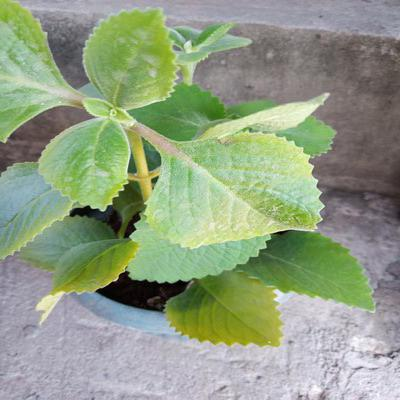Oregano: (36, 55, 380, 327)
